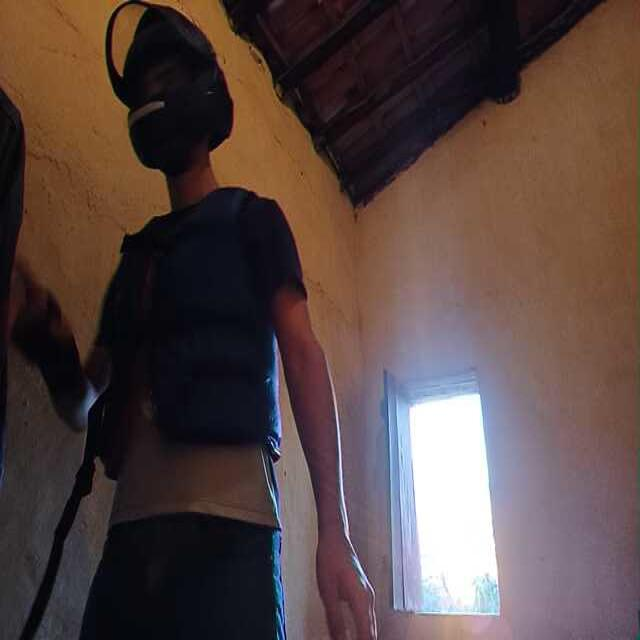capacete: (103, 0, 240, 160)
colete: (98, 199, 280, 480)
pessoa: (55, 1, 368, 640)
